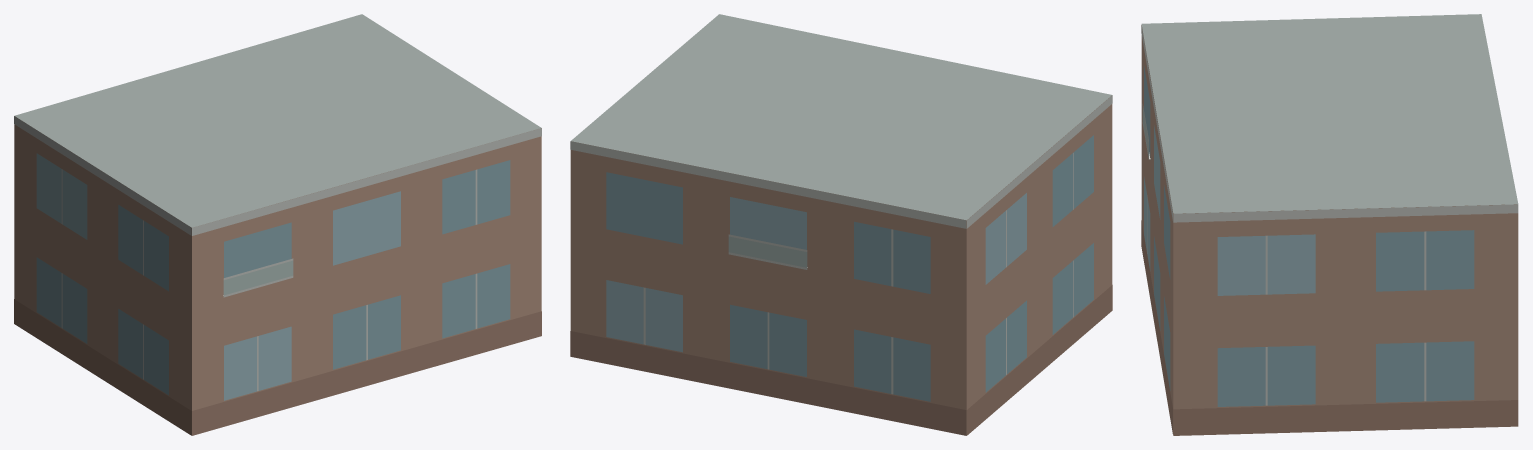
The model's file is survey-upis-32803305.glb.
The picture shows the model from 3 angles, left to right: view 1: azimuth 30°, elevation 25°; view 2: azimuth 150°, elevation 25°; view 3: azimuth 270°, elevation 25°; orthographic projection. The views are drawn at different scales.
Visible parts, largest first — view 1: survey-upis-32803305.tmp; view 2: survey-upis-32803305.tmp; view 3: survey-upis-32803305.tmp.
Boxes of the visible parts, bbox=[...] form: survey-upis-32803305.tmp: bbox=[14, 14, 541, 435]; survey-upis-32803305.tmp: bbox=[570, 14, 1112, 435]; survey-upis-32803305.tmp: bbox=[1141, 14, 1518, 435].
Bounding box in the file's own units: 11.77 × 6.1 × 9.39.
